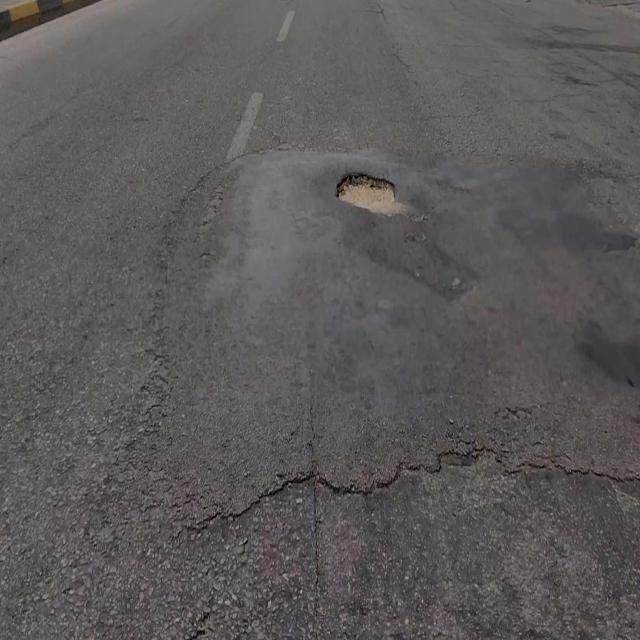Potholes: (336, 168, 399, 219)
